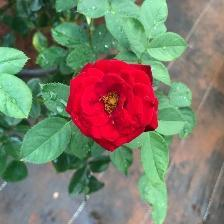rose: (66, 59, 160, 154)
